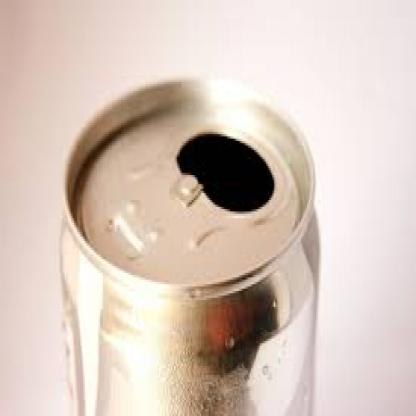METAL: (55, 77, 318, 414)
